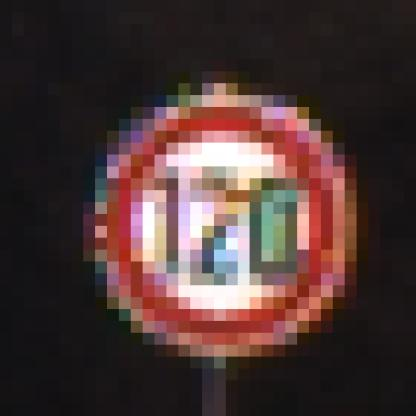Speed Limit 120: (99, 102, 340, 351)
